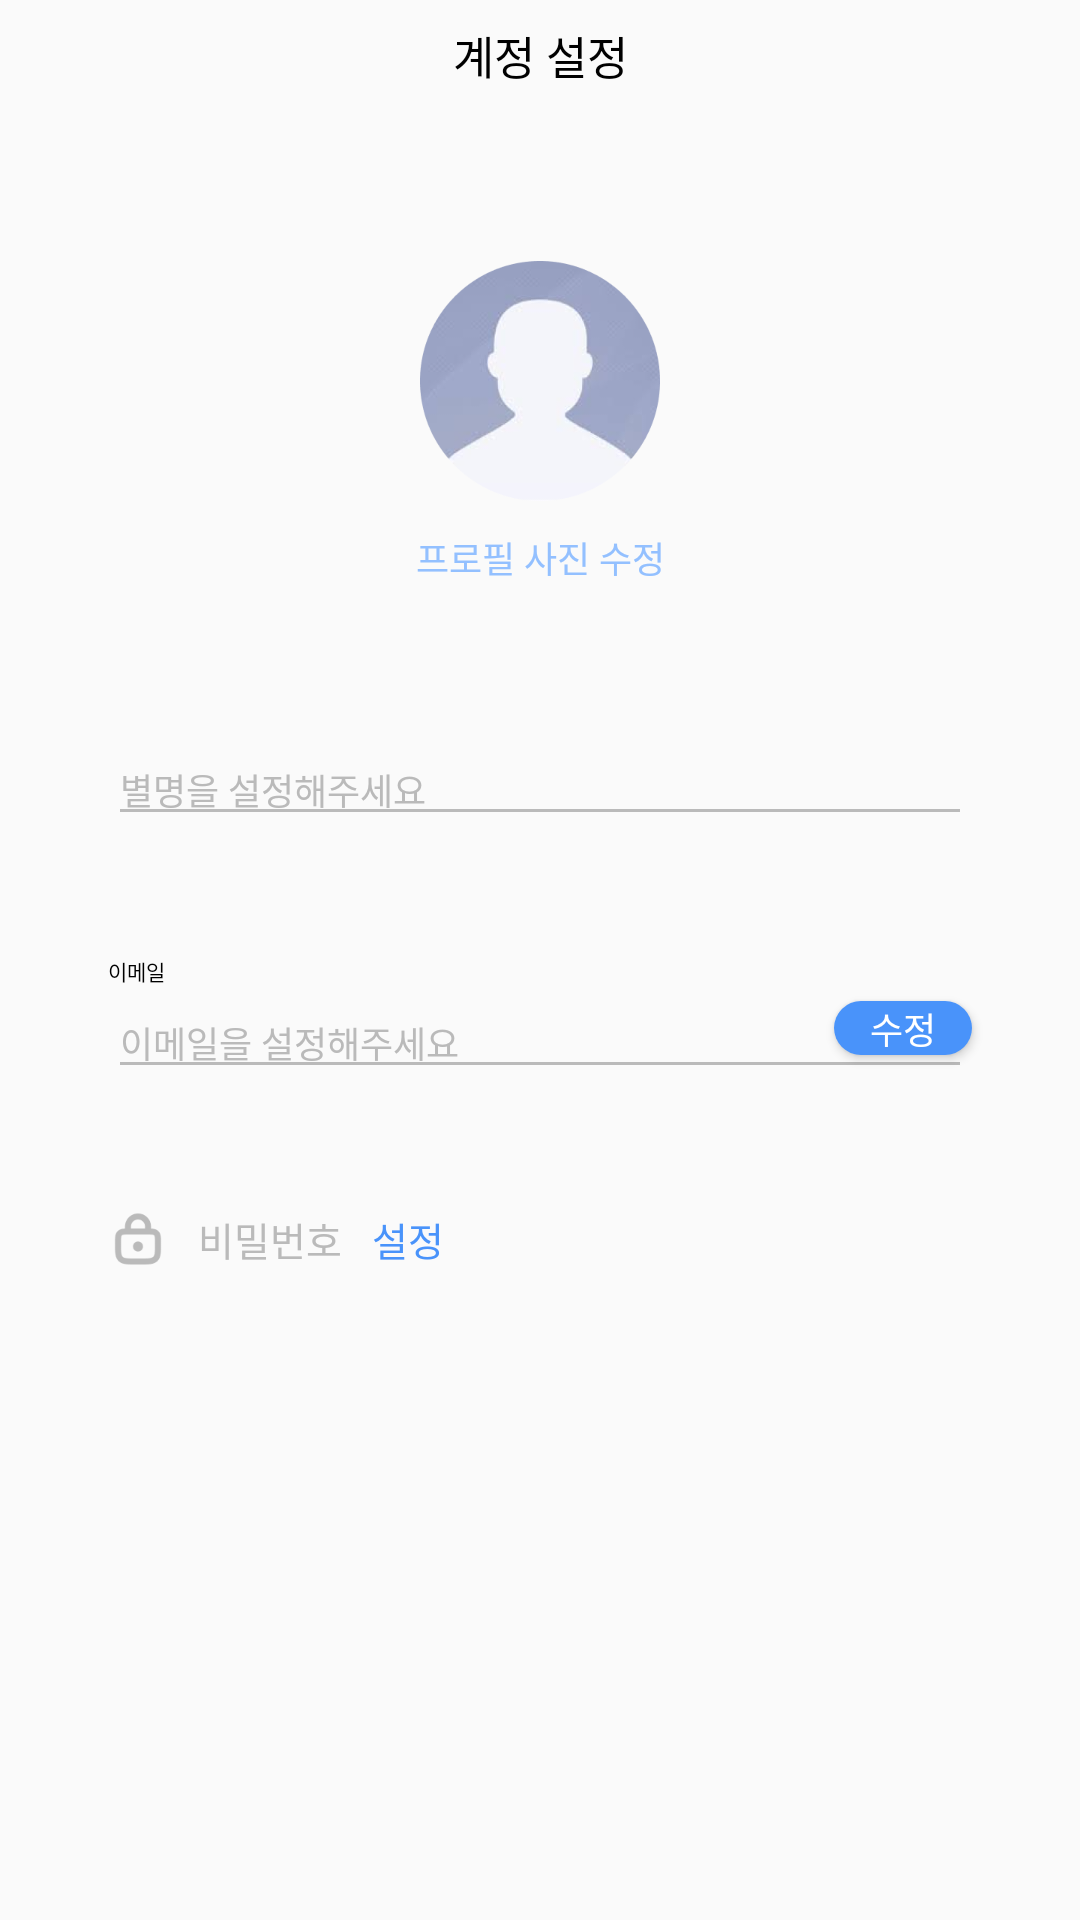

Named icons in this screenshot (1080 × 1920) and their bounding boxes, [x1=x1, y1=y1, x2=x2, y2=y2]:
lock: [x1=115, y1=1213, x2=161, y2=1265]
